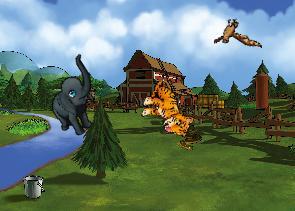eagle: (209, 13, 262, 57)
elephant: (33, 53, 117, 142)
tiger: (135, 77, 202, 140)
